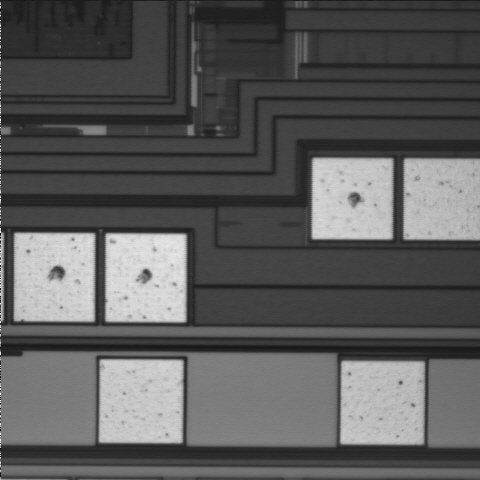pad: (106, 234, 186, 322), (99, 360, 183, 443), (15, 233, 94, 321), (341, 362, 423, 444), (312, 159, 392, 239)
